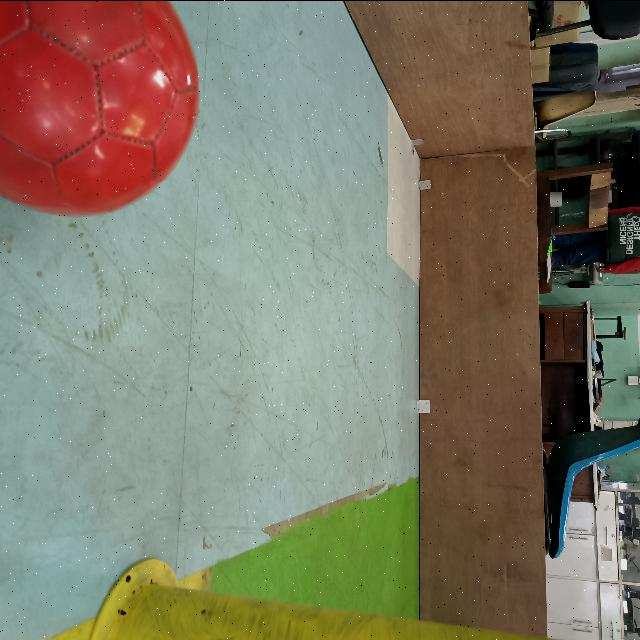R: (0, 0, 204, 218)
